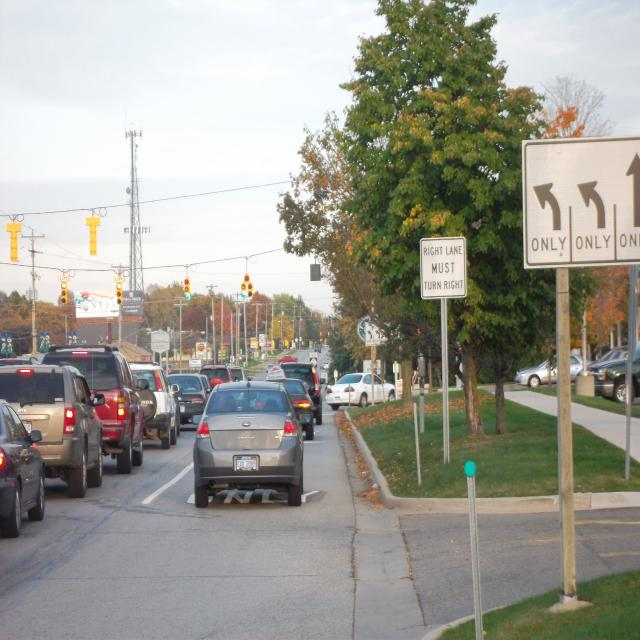regulatory: (520, 135, 640, 271), (418, 236, 469, 301), (365, 320, 403, 346), (292, 342, 295, 348)
